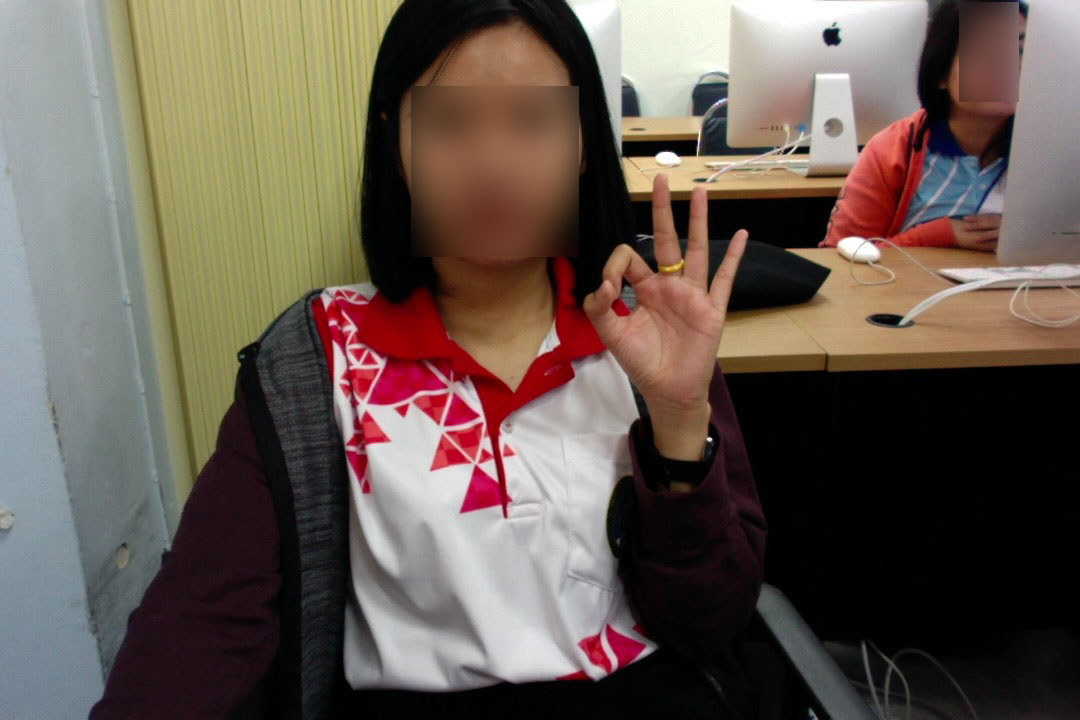for: (575, 166, 756, 412)
